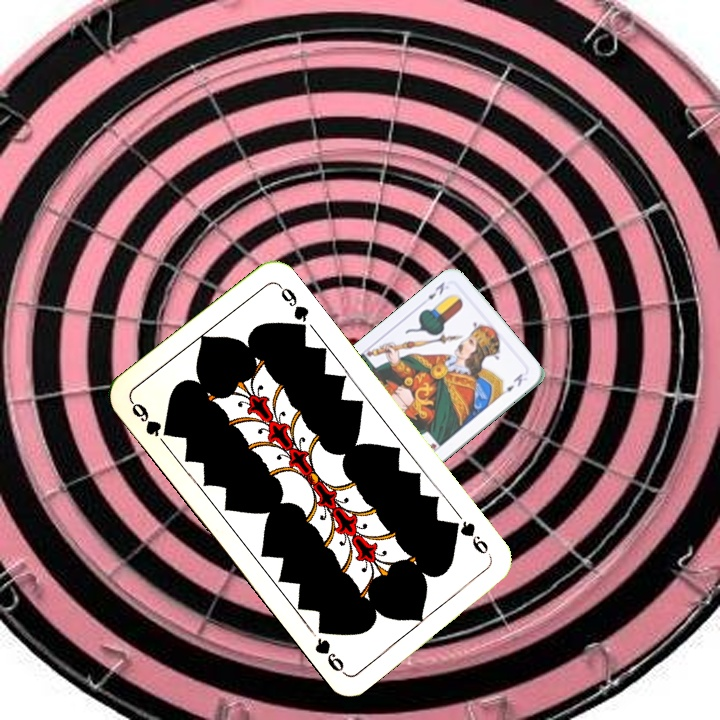EK: (417, 278, 447, 306)
G9: (126, 396, 176, 440), (446, 516, 494, 561)
